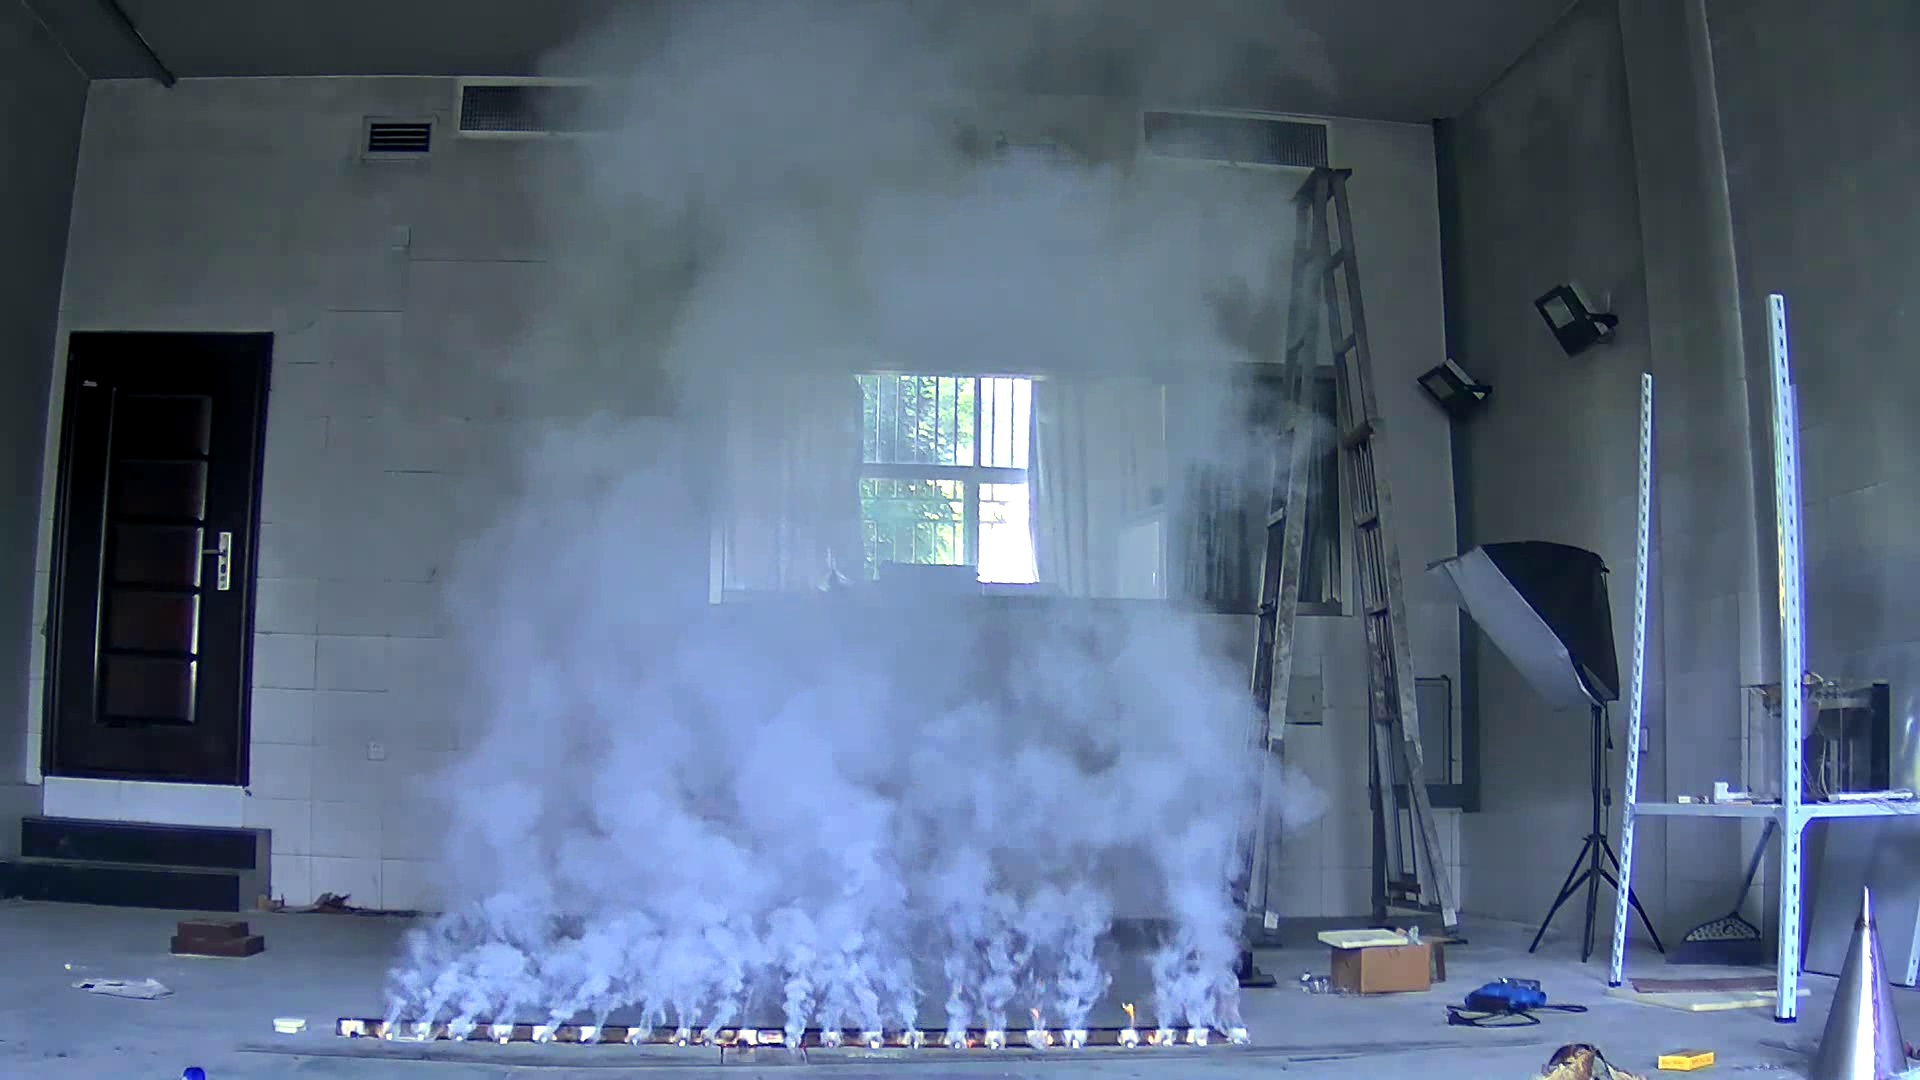smoke: (386, 522, 1286, 1033)
